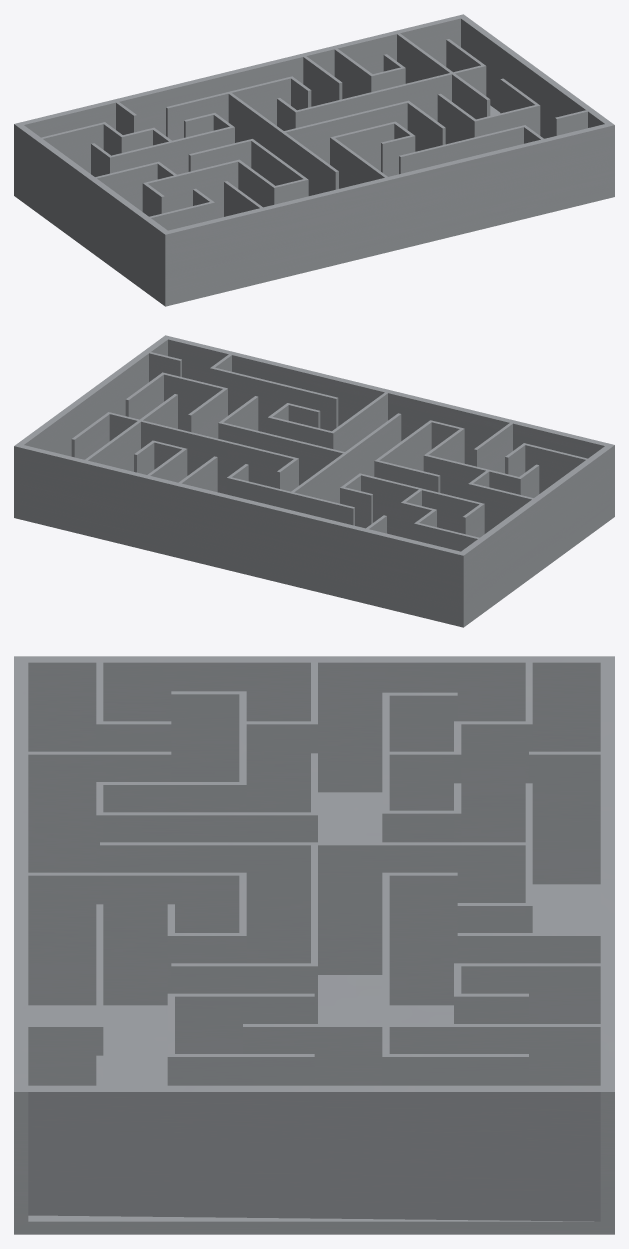
The model's file is Maze.fbx.
3 renders of one model, top to bottom at view 1: azimuth 30°, elevation 25°; view 2: azimuth 150°, elevation 25°; view 3: azimuth 270°, elevation 25°, orthographic. The views are drawn at different scales.
Visible parts, largest first — view 1: Cube; view 2: Cube; view 3: Cube.
Part boxes in pixels (x1,y1,x2,y2): Cube: (14, 14, 614, 306); Cube: (14, 335, 614, 627); Cube: (14, 656, 614, 1234).
Size of the model in its own units: 1440 by 220 by 840.
2 materials, 2 textured.
